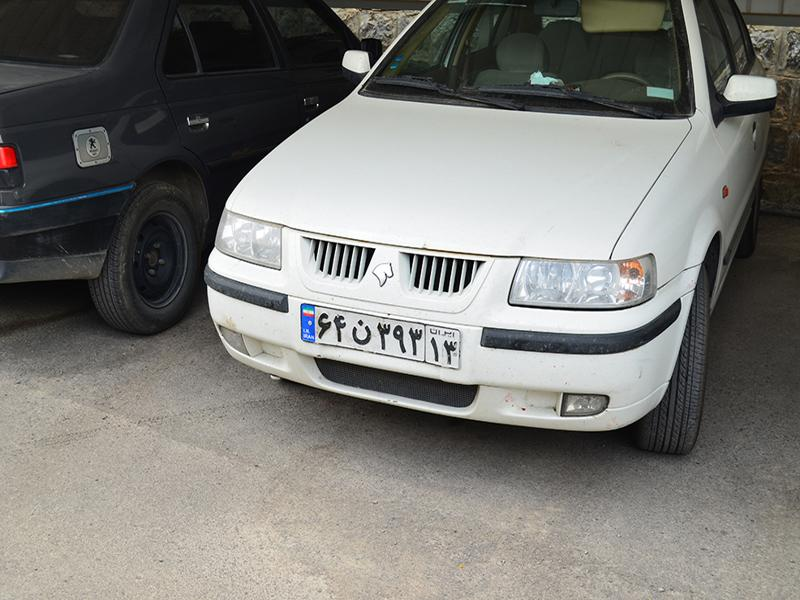Plate: (299, 302, 463, 369)
